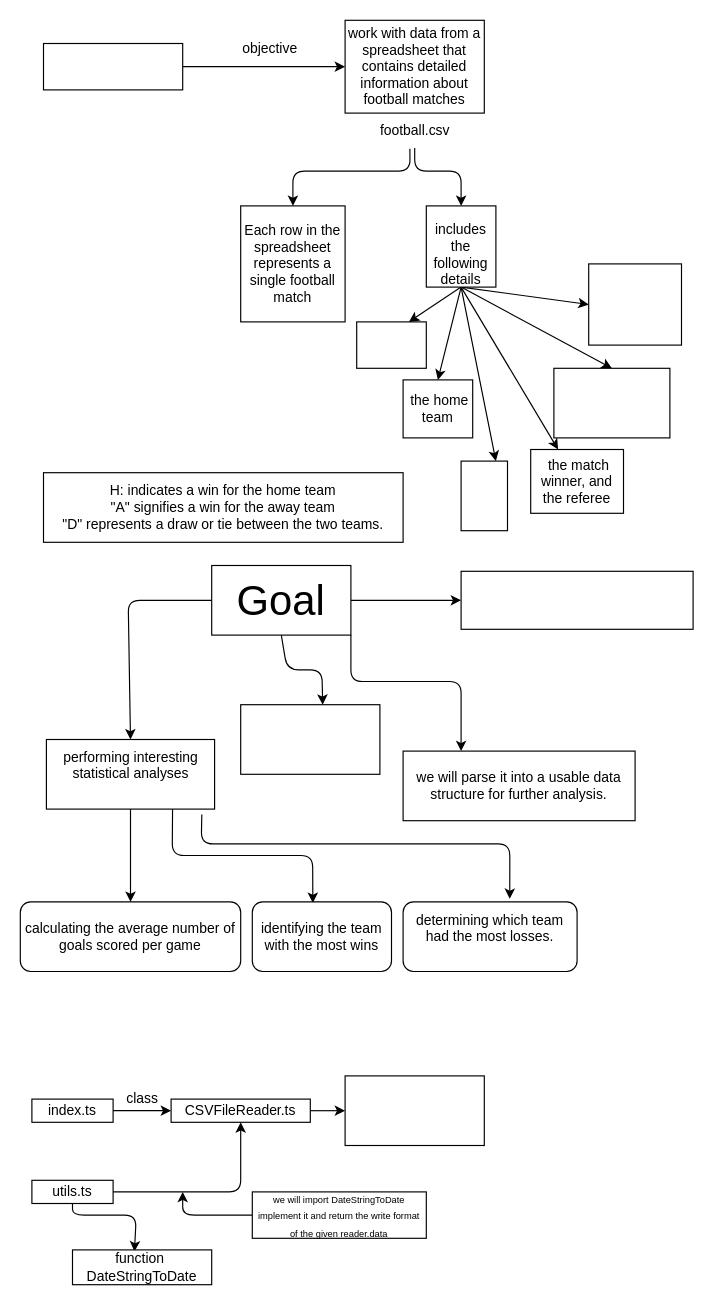
This 713x1305 diagram has some shape labels left out. Here are the shapes that lost their labels. From the top down, the centre of each, then its label:
At (x=112, y=66): "task".
At (x=635, y=304): "the number of goals scored by the home team".
At (x=391, y=344): "the date of the match".
At (x=611, y=402): "the number of goals scored by the away team".
At (x=483, y=495): "the away team".
At (x=576, y=599): "load this CSV-formatted data".
At (x=310, y=739): "output in the terminal, saved as an HTML file, or presented in another format.".
At (x=414, y=1110): "Reading logic in the class and stores into reader.data as a 2D string".
